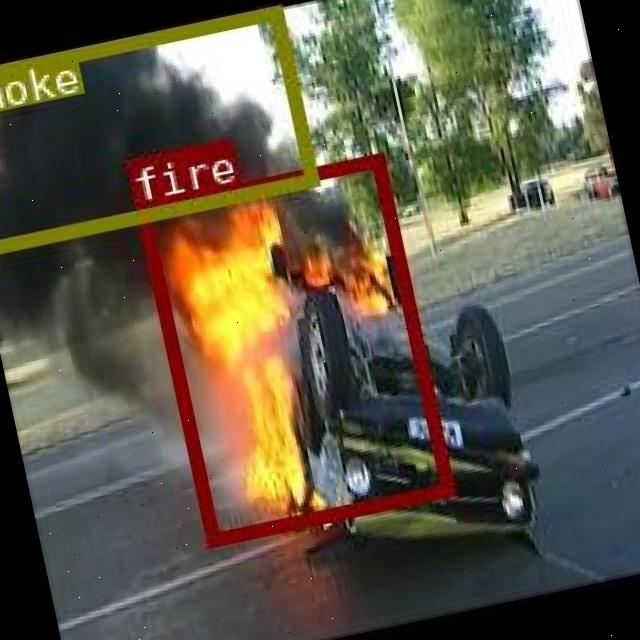fire: (134, 152, 452, 546)
smoke: (0, 2, 316, 252)
